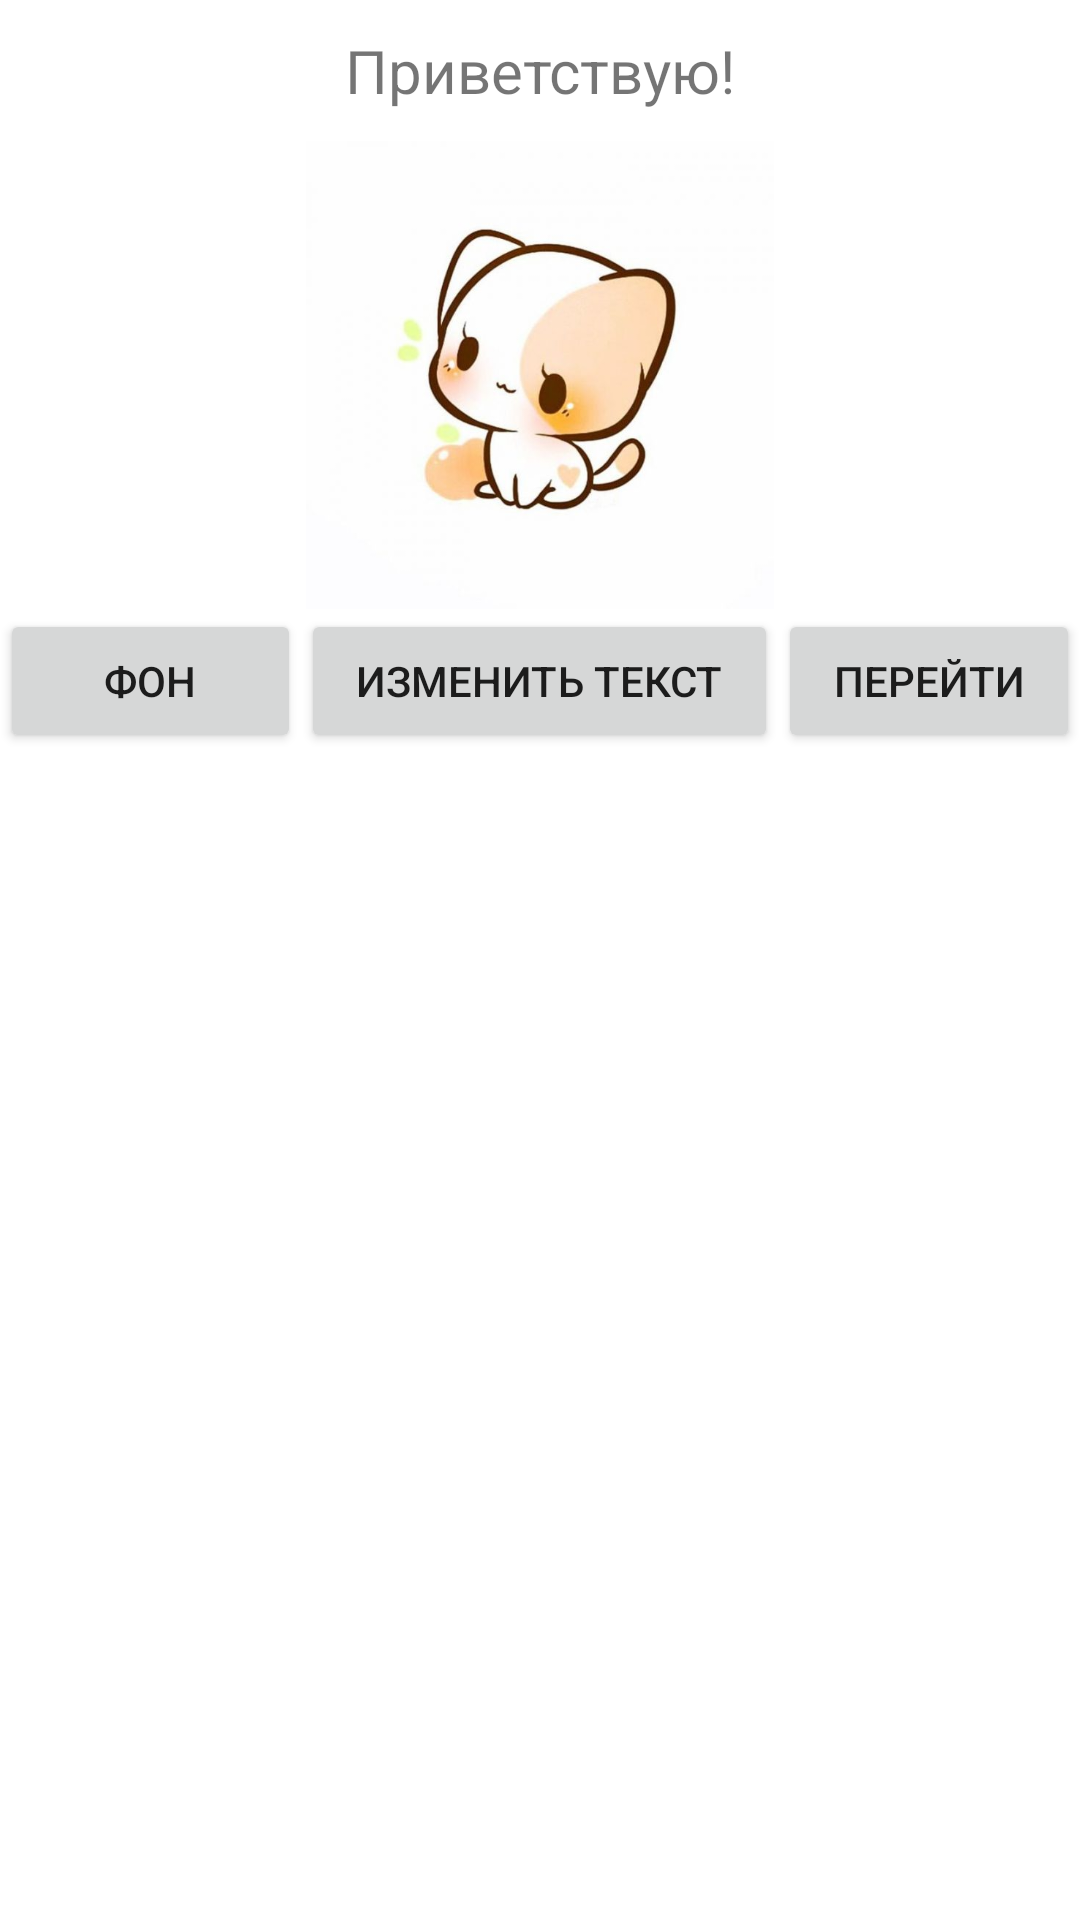

Locate icon controls on the screen. Image size 1080×1920, boxes as Rect(x1, y1, x2, y2).
cat: Rect(396, 229, 676, 510)
